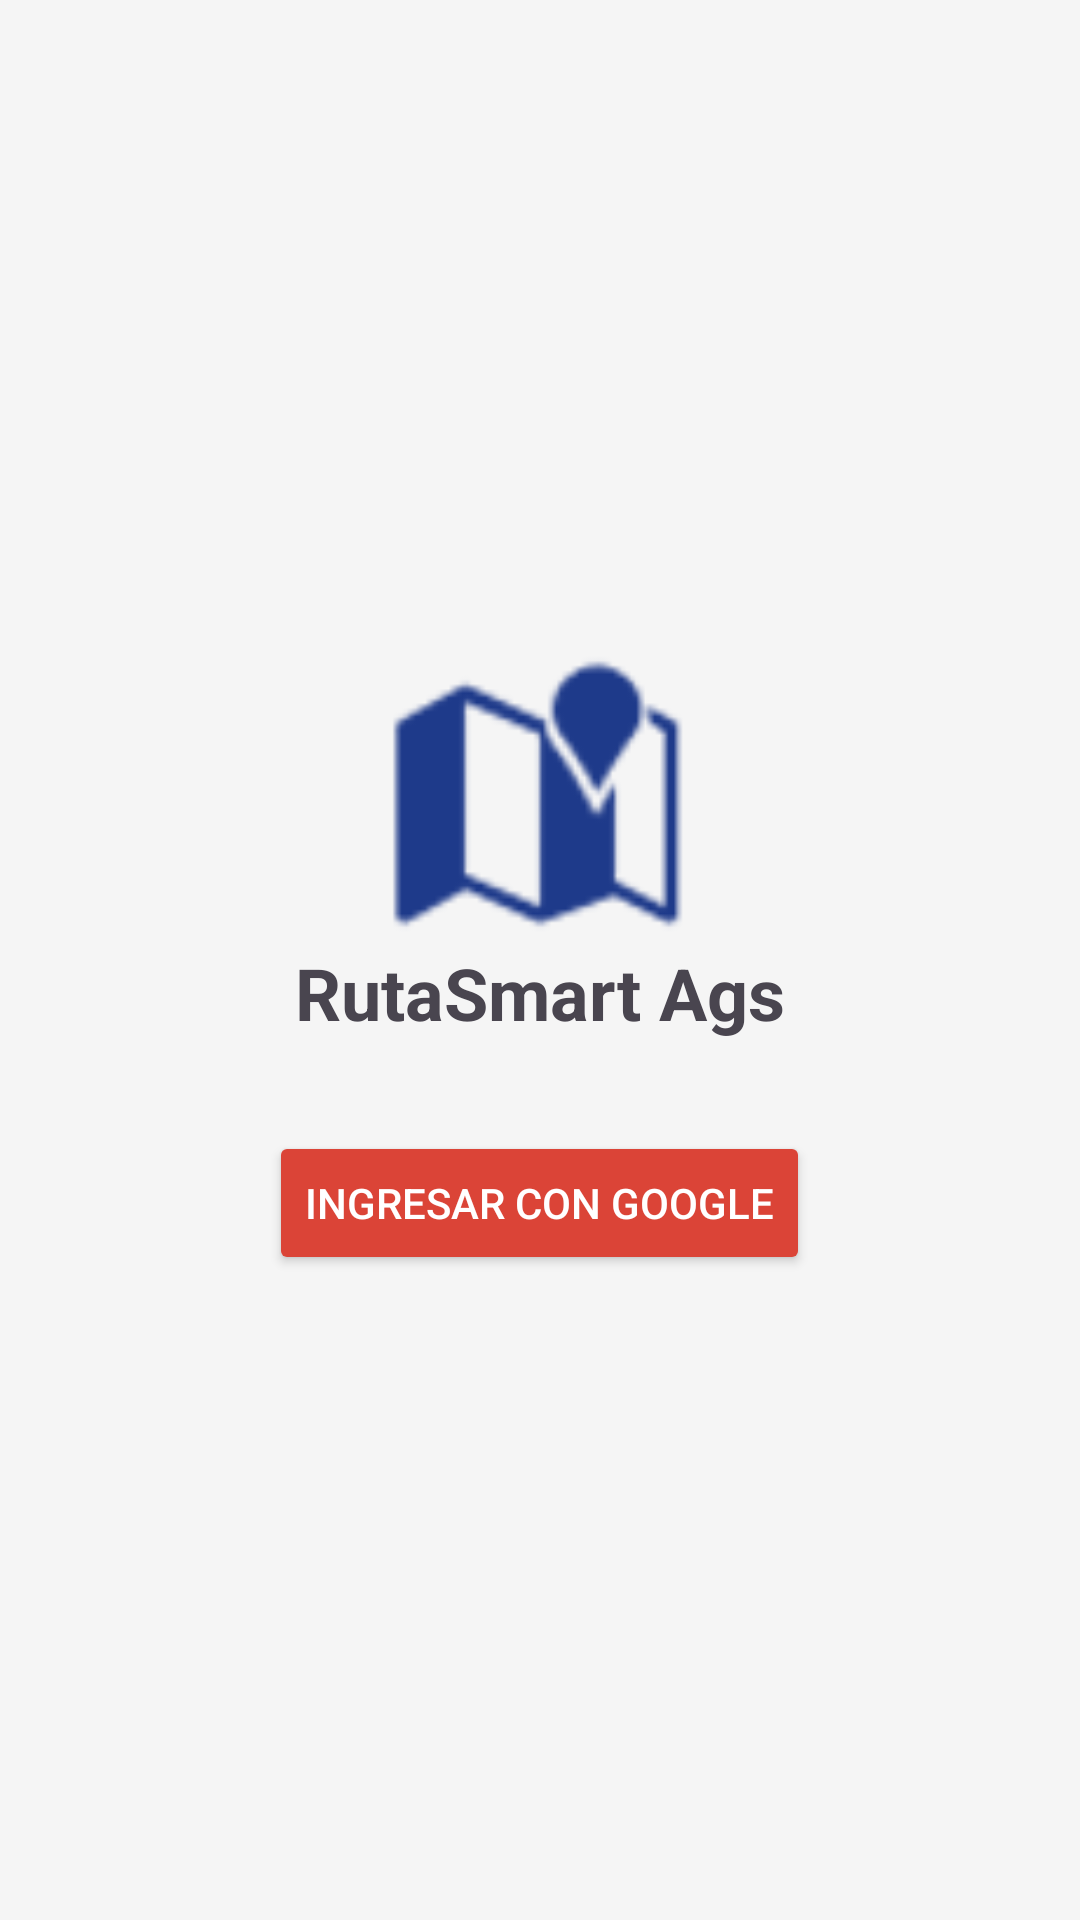

Named icons in this screenshot (1080 × 1920) and their bounding boxes, (x1, y1, x2, y2):
map: (393, 661, 681, 926)
